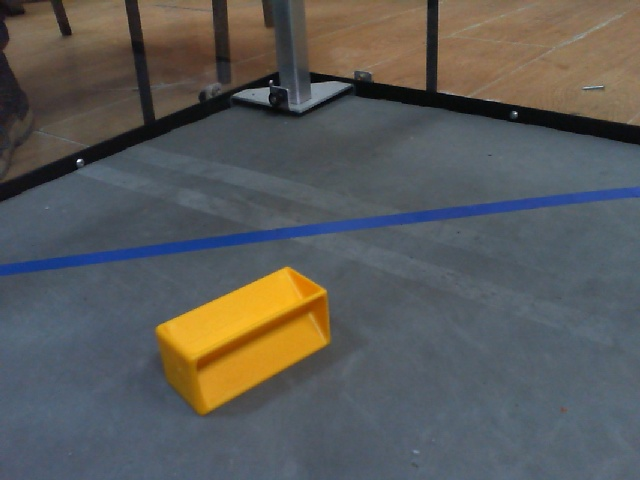YellowSample: (151, 265, 341, 421)
